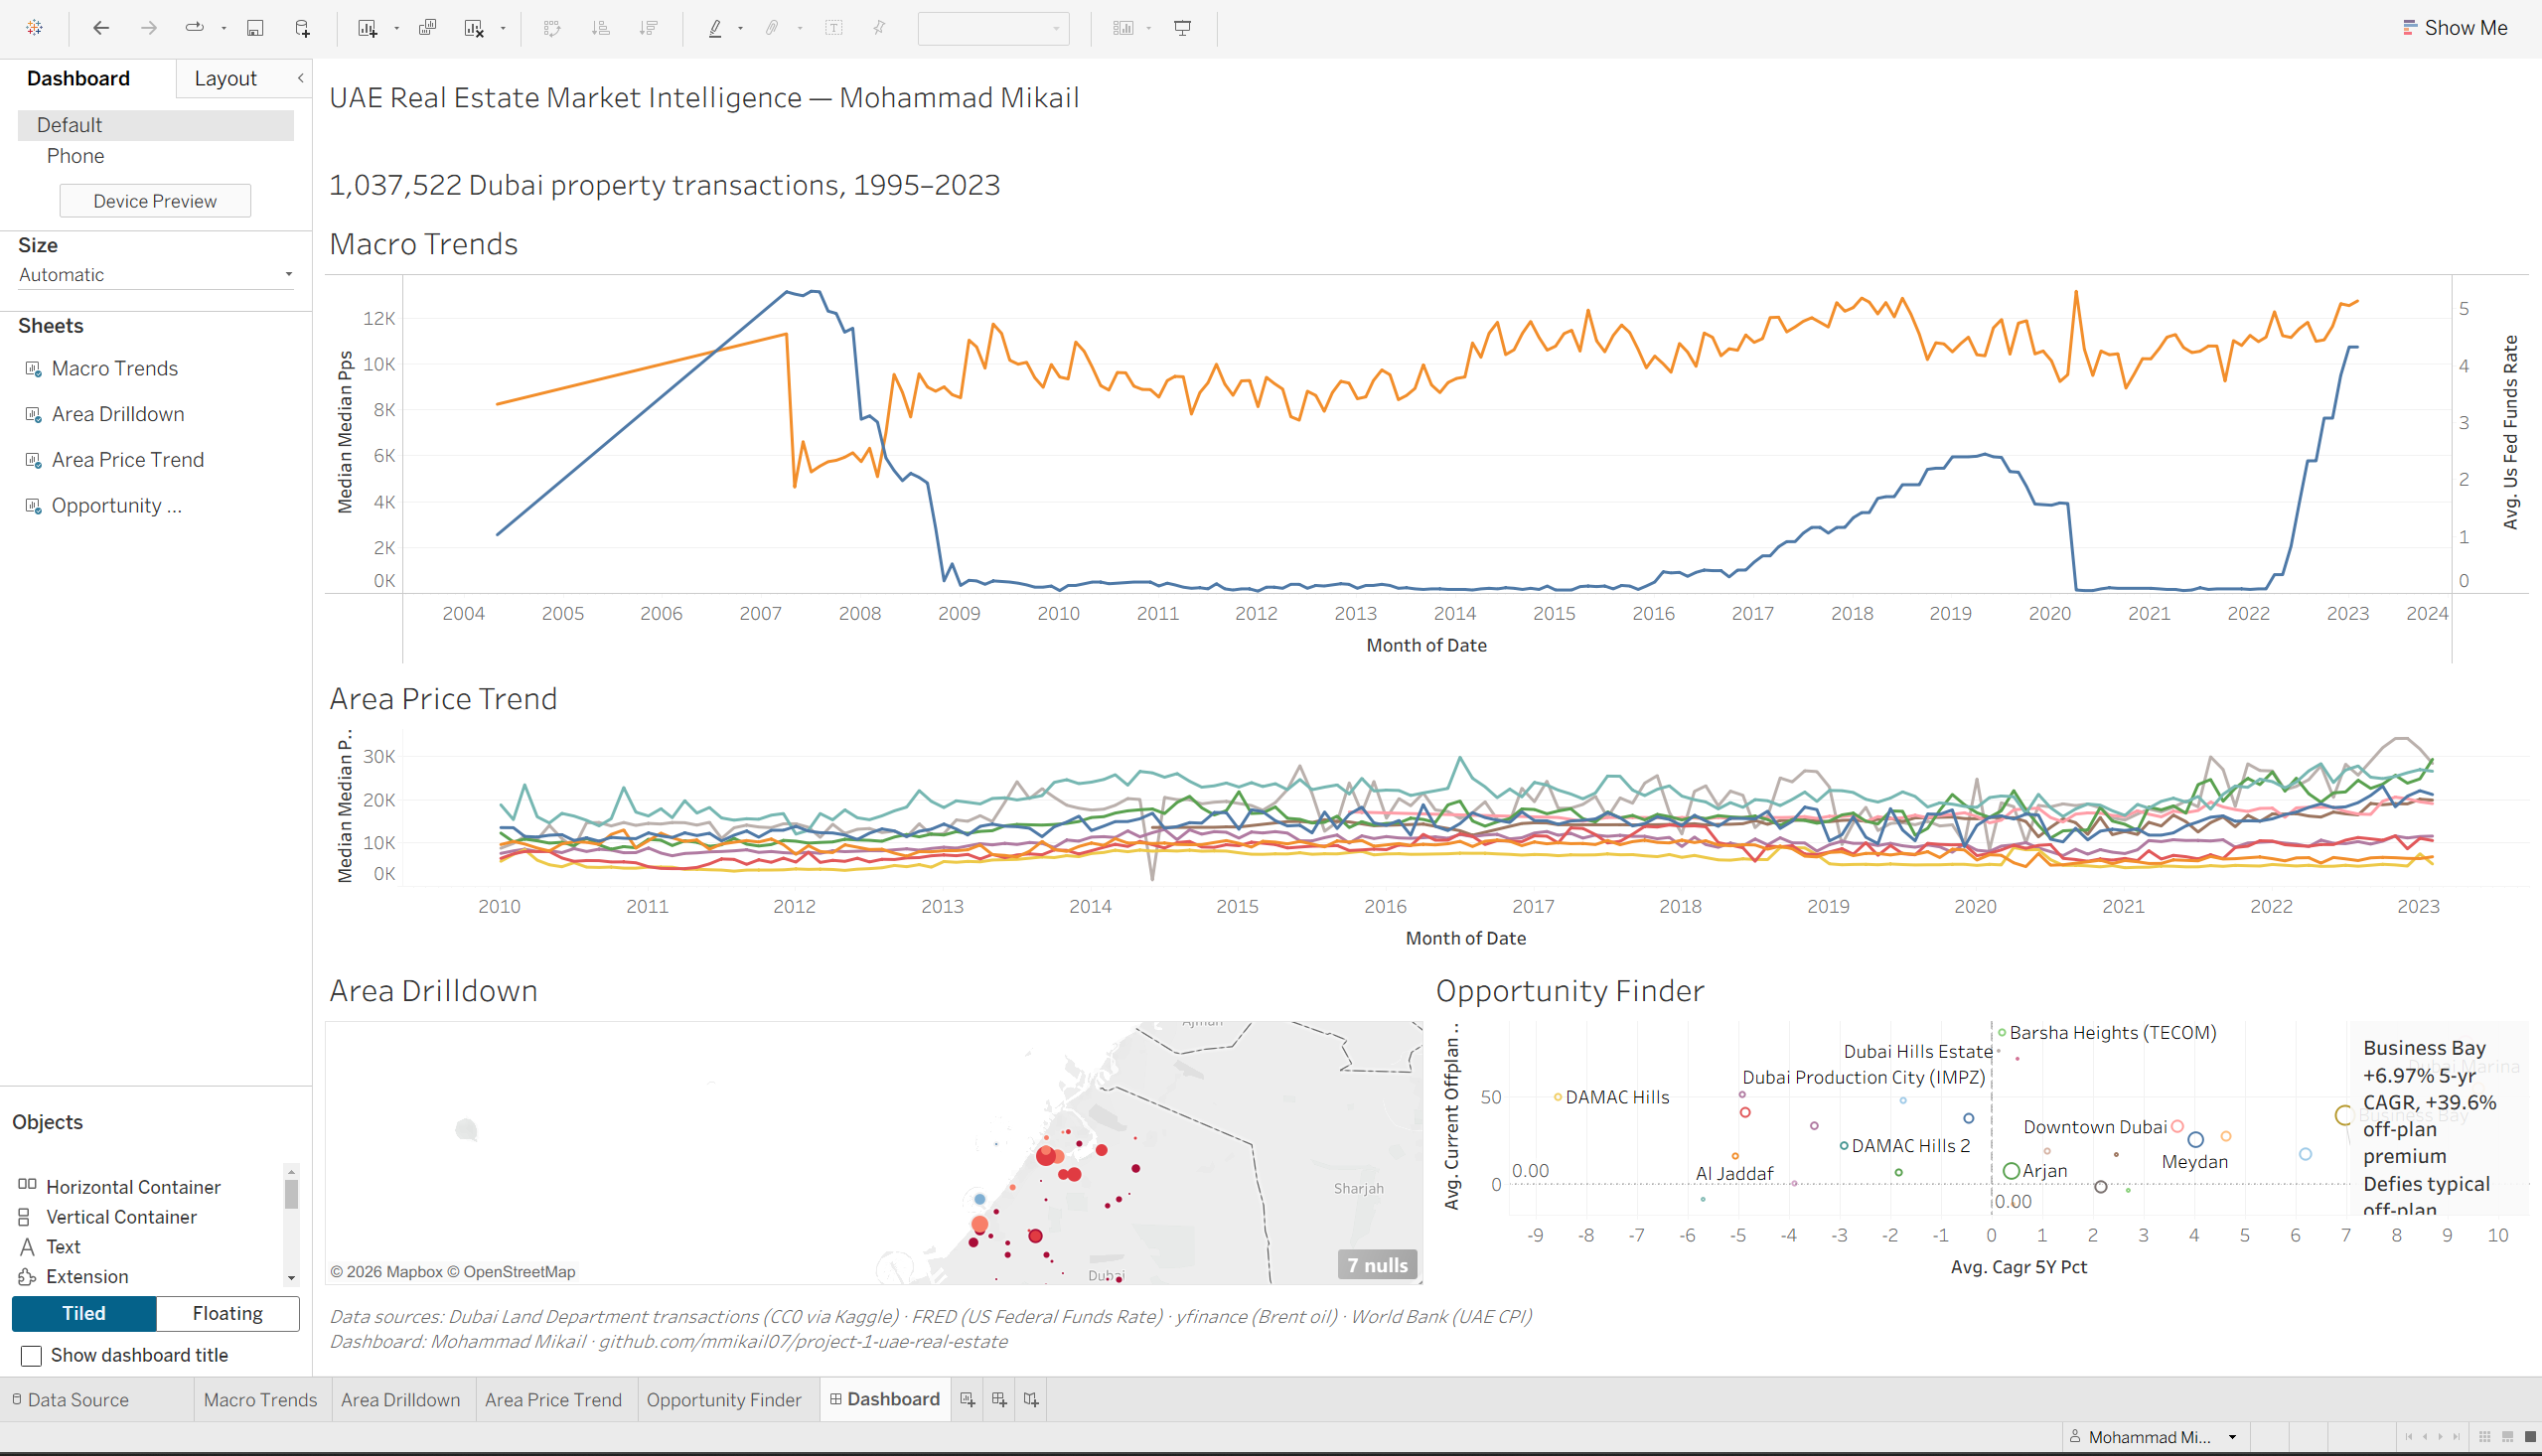

The dashboard page shown, as its layout file describes it:
{"tool":"tableau","page":{"name":"Dashboard","canvas":[1000,1000],"units":"permille","ordinal":0},"visuals":[{"type":"title","box":[3.6,6,992.9,111.6]},{"type":"worksheet","title":"Macro Trends","mark":"Automatic","rows":["median_pps","us_fed_funds_rate"],"cols":["date"],"box":[3.6,117.6,992.9,345.2]},{"type":"worksheet","title":"Area Price Trend","mark":"Automatic","rows":["median_pps"],"cols":["date"],"box":[3.6,462.8,992.9,221.7]},{"type":"worksheet","title":"Area Drilldown","mark":"Automatic","rows":["lat"],"cols":["lon"],"box":[3.6,684.6,496.4,249.8]},{"type":"worksheet","title":"Opportunity Finder","mark":"Automatic","rows":["current_offplan_gap_pct"],"cols":["cagr_5y_pct"],"box":[500,684.6,496.4,249.8]},{"type":"text","box":[3.6,934.4,992.9,59.6]}]}

Visuals, with their boxes on the dashboard's canvas, which has no fixed pixel size, in thousandths of its width and height (x1, y1, x2, y2). These are canvas units, not pixel positions in the 2542x1456 screenshot, which may show the page scaled, cropped or inside an application window:
title: region(4, 6, 996, 118)
"Macro Trends" worksheet: region(4, 118, 996, 463)
"Area Price Trend" worksheet: region(4, 463, 996, 684)
"Area Drilldown" worksheet: region(4, 685, 500, 934)
"Opportunity Finder" worksheet: region(500, 685, 996, 934)
text: region(4, 934, 996, 994)
